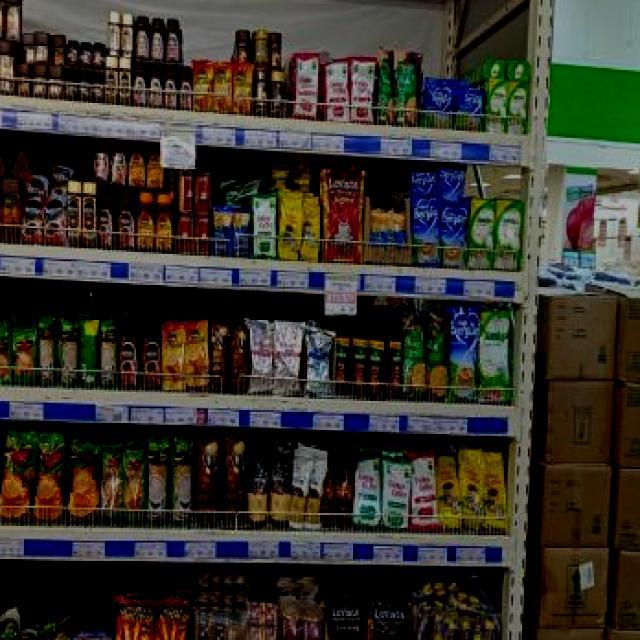Coffee: (162, 324, 185, 391), (118, 314, 138, 390), (142, 314, 162, 390), (187, 324, 208, 390), (98, 190, 116, 250), (118, 190, 136, 250), (136, 192, 154, 252), (154, 195, 172, 254), (44, 200, 65, 247), (193, 62, 212, 113), (214, 62, 233, 112), (22, 199, 42, 246), (233, 63, 250, 114), (67, 182, 80, 248), (128, 144, 146, 190), (84, 182, 96, 248), (148, 144, 165, 190), (92, 138, 108, 184), (110, 140, 126, 186), (166, 19, 180, 62), (149, 63, 162, 109), (165, 66, 178, 111), (106, 56, 117, 104), (108, 12, 120, 56), (136, 16, 148, 59), (151, 18, 163, 61), (121, 15, 132, 58), (180, 68, 191, 110), (120, 59, 130, 104), (134, 62, 144, 107), (92, 74, 104, 103), (64, 72, 76, 100), (78, 74, 89, 102), (93, 42, 104, 68), (68, 40, 79, 65), (82, 41, 91, 66)
